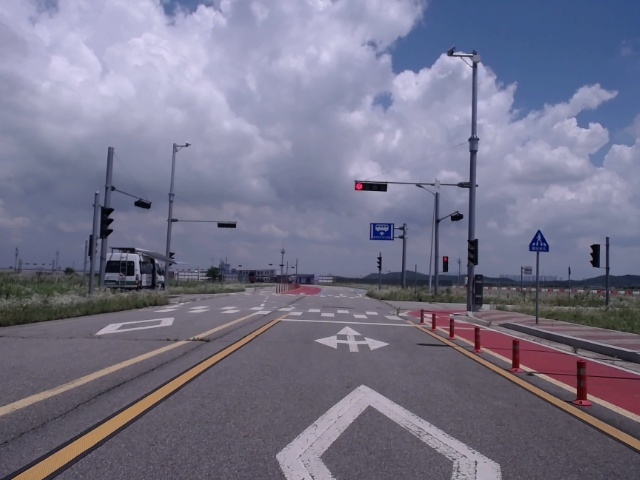red_4: (355, 182, 387, 192)
